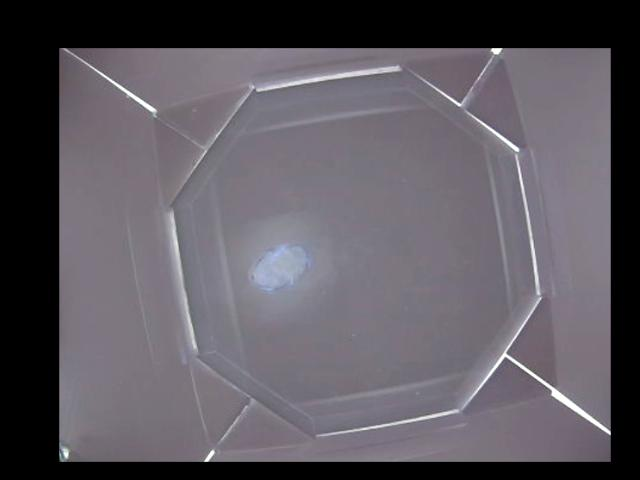Pebble: (249, 239, 307, 292)
